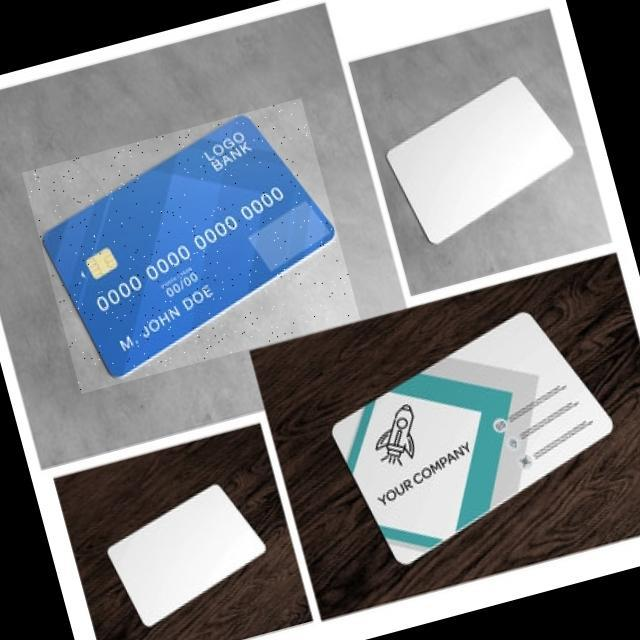payment_card: (33, 103, 341, 383)
